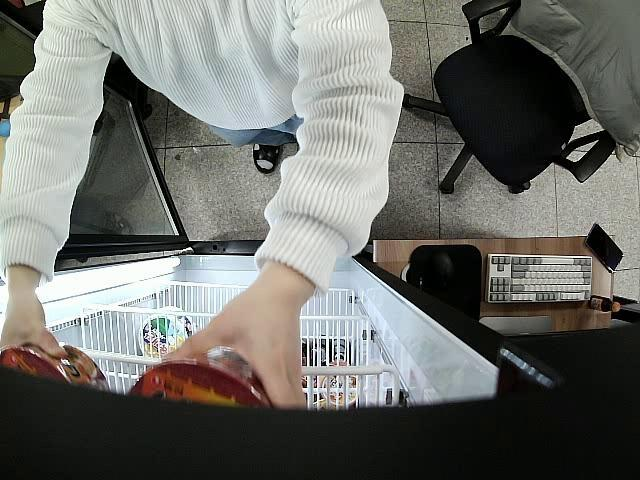05_nuguri_L: (124, 338, 273, 416), (0, 340, 109, 393)
